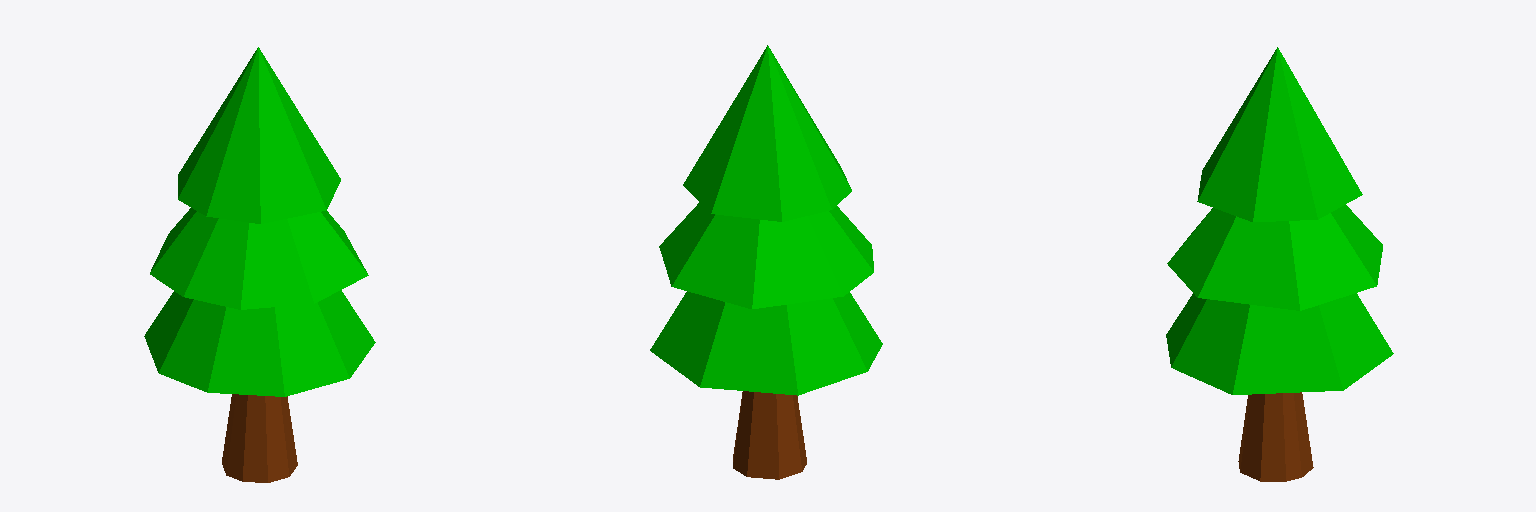
File: lowtree.obj
The picture shows the model from 3 angles: view 1: azimuth 30°, elevation 25°; view 2: azimuth 150°, elevation 25°; view 3: azimuth 270°, elevation 25°; orthographic projection.
Visible parts, largest first — view 1: leafs_Cone.001, body_Cone; view 2: leafs_Cone.001, body_Cone; view 3: leafs_Cone.001, body_Cone.
Boxes of the visible parts, <box> form: leafs_Cone.001: <box>144,47,375,396</box>; body_Cone: <box>222,394,297,482</box>; leafs_Cone.001: <box>650,45,882,395</box>; body_Cone: <box>733,391,806,479</box>; leafs_Cone.001: <box>1166,47,1393,394</box>; body_Cone: <box>1238,392,1313,481</box>.
Bounding box in the file's own units: 2 × 4.06 × 2.